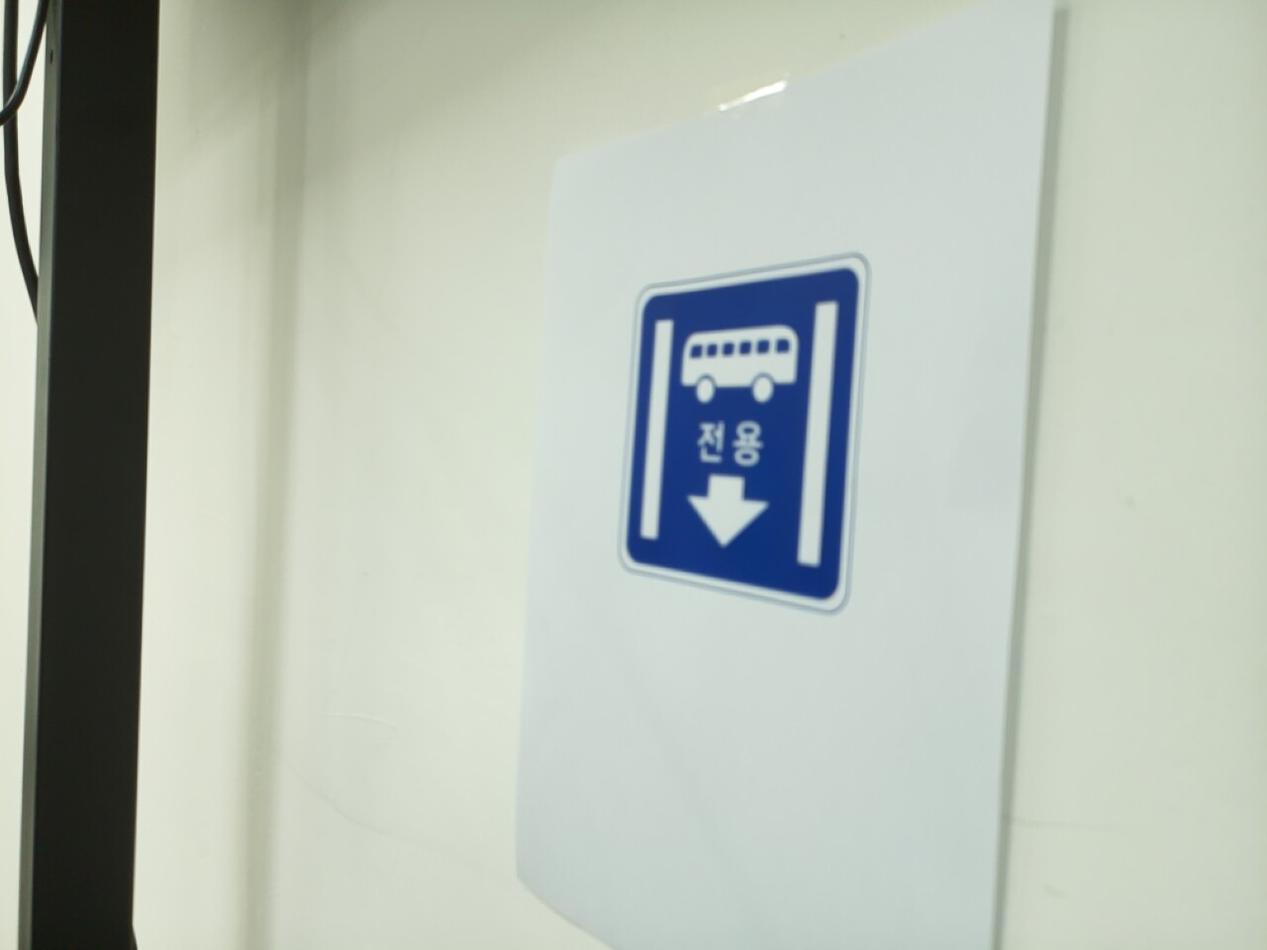bus_only_lane: (619, 258, 867, 610)
